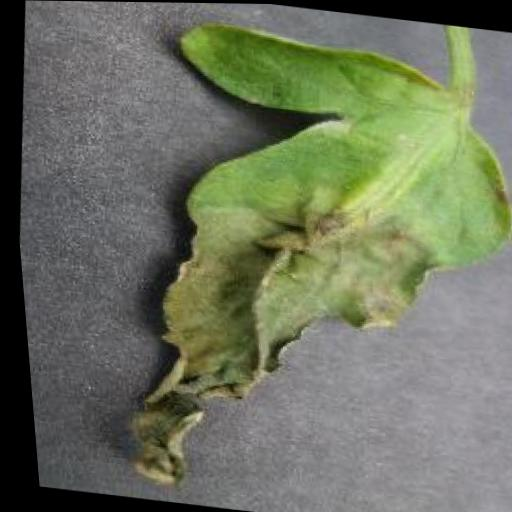Late Blight: (88, 12, 512, 512)
